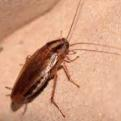cockroach: (11, 36, 70, 104)
